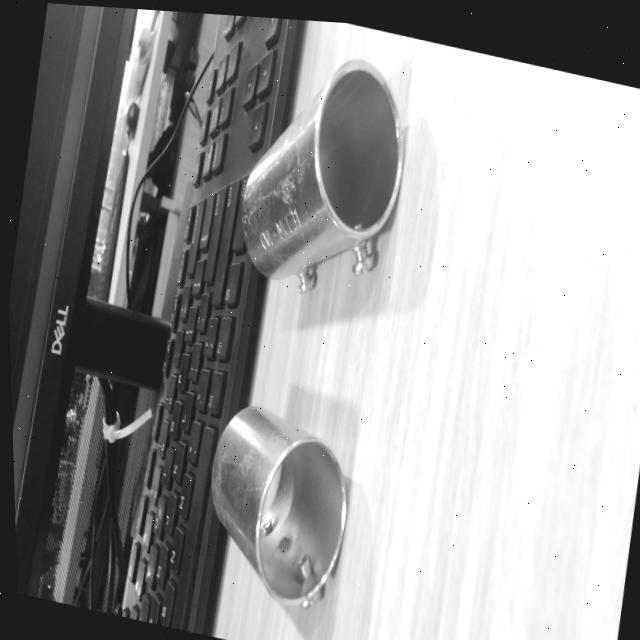Co_Lon: (211, 37, 439, 319)
Co_Nho: (174, 382, 396, 621)
